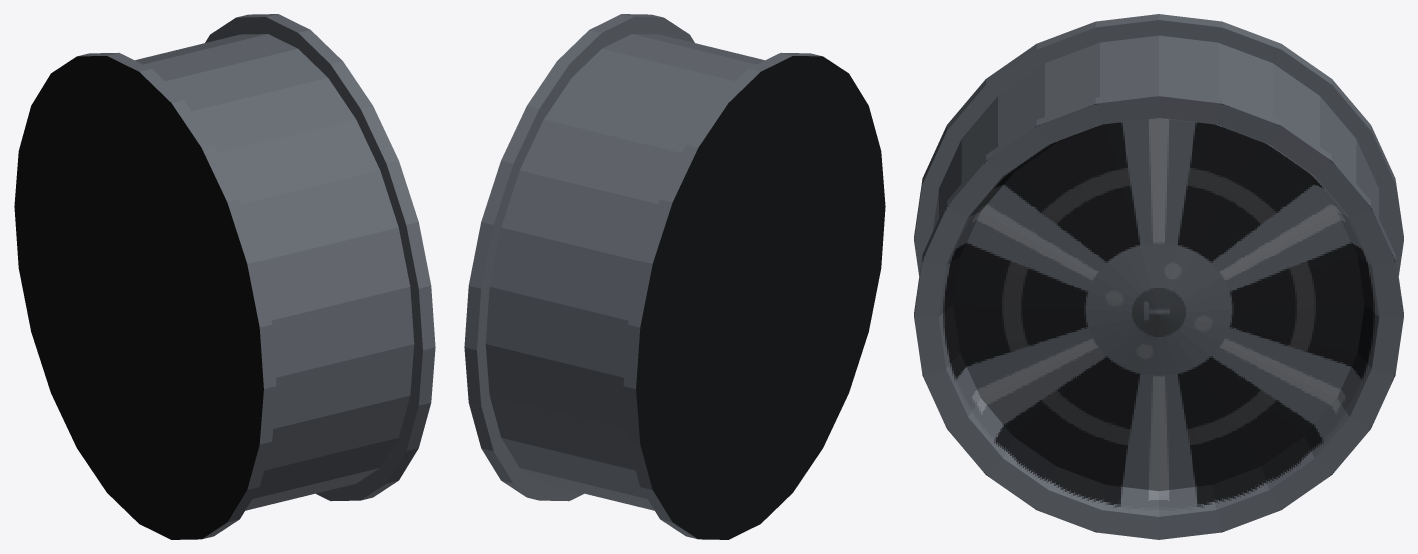
File: tauari_magnesio_17.glb
3 views of the same model, side by side, from view 1: azimuth 30°, elevation 25°; view 2: azimuth 150°, elevation 25°; view 3: azimuth 270°, elevation 25° (orthographic).
Visible parts, largest first — view 1: tauari_magnesio_17; view 2: tauari_magnesio_17; view 3: tauari_magnesio_17.
Boxes of the visible parts, x1,y1,x2,y2 form: tauari_magnesio_17: [14, 14, 435, 539]; tauari_magnesio_17: [464, 14, 885, 539]; tauari_magnesio_17: [914, 14, 1403, 539].
Bounding box in the file's own units: 0.192 × 0.4836 × 0.4836.
Materials: 1 (1 with a texture image).
